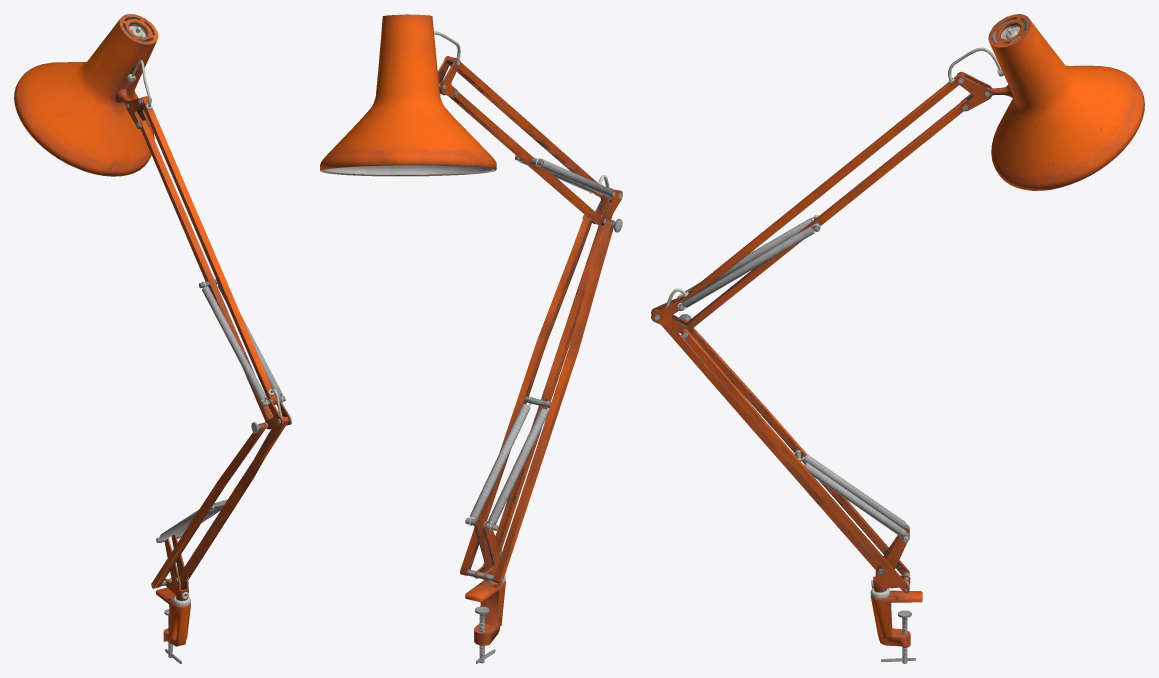
The model's file is desk_lamp_arm_01.glb.
The picture shows the model from 3 angles, left to right: view 1: azimuth 30°, elevation 25°; view 2: azimuth 150°, elevation 25°; view 3: azimuth 270°, elevation 25°; orthographic projection. The views are drawn at different scales.
Parts seen in each view (by area): view 1: desk_lamp_arm_01; view 2: desk_lamp_arm_01; view 3: desk_lamp_arm_01.
Part boxes in pixels (x1,y1,x2,y2): desk_lamp_arm_01: (14, 14, 291, 663); desk_lamp_arm_01: (320, 14, 622, 663); desk_lamp_arm_01: (651, 14, 1144, 663).
Size of the model in its own units: 0.2017 by 0.8926 by 0.6139.
2 materials, 2 textured.
